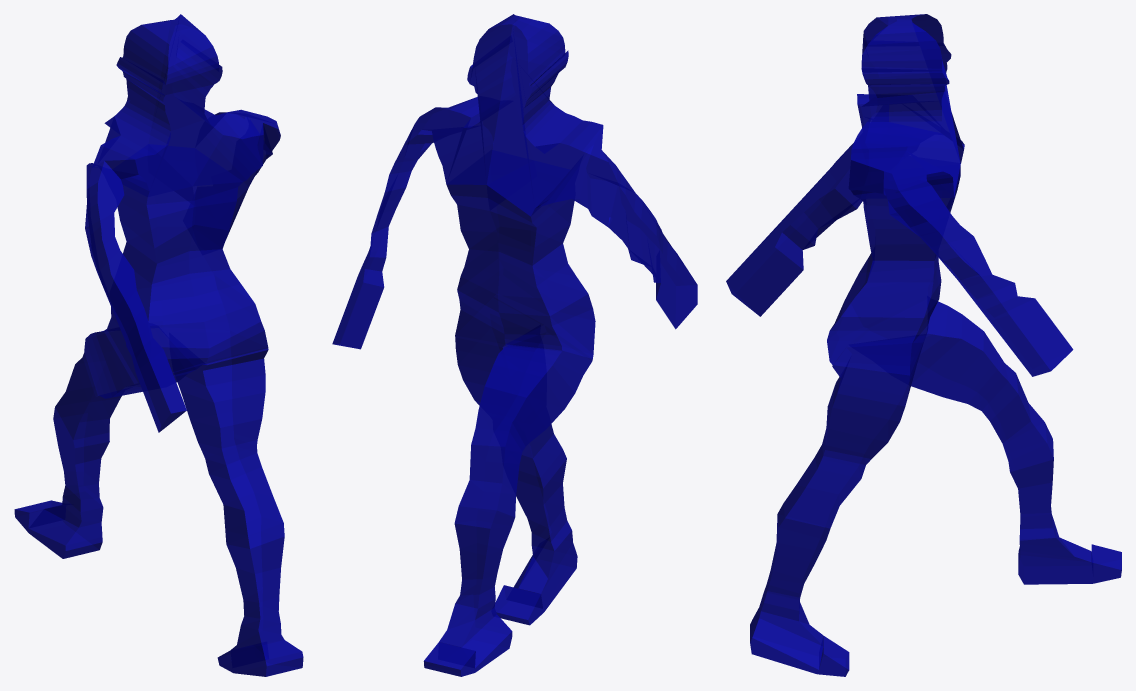
Rendered from woman_000018.obj.
3 renders of one model, left to right at view 1: azimuth 30°, elevation 25°; view 2: azimuth 150°, elevation 25°; view 3: azimuth 270°, elevation 25°, orthographic.
Visible parts, largest first — view 1: Cube_Cube.001; view 2: Cube_Cube.001; view 3: Cube_Cube.001.
Boxes of the visible parts, x1,y1,x2,y2 form: Cube_Cube.001: (14,14,303,676); Cube_Cube.001: (332,14,697,676); Cube_Cube.001: (726,14,1121,676).
Size of the model in its own units: 3.61 by 9.97 by 5.66.
